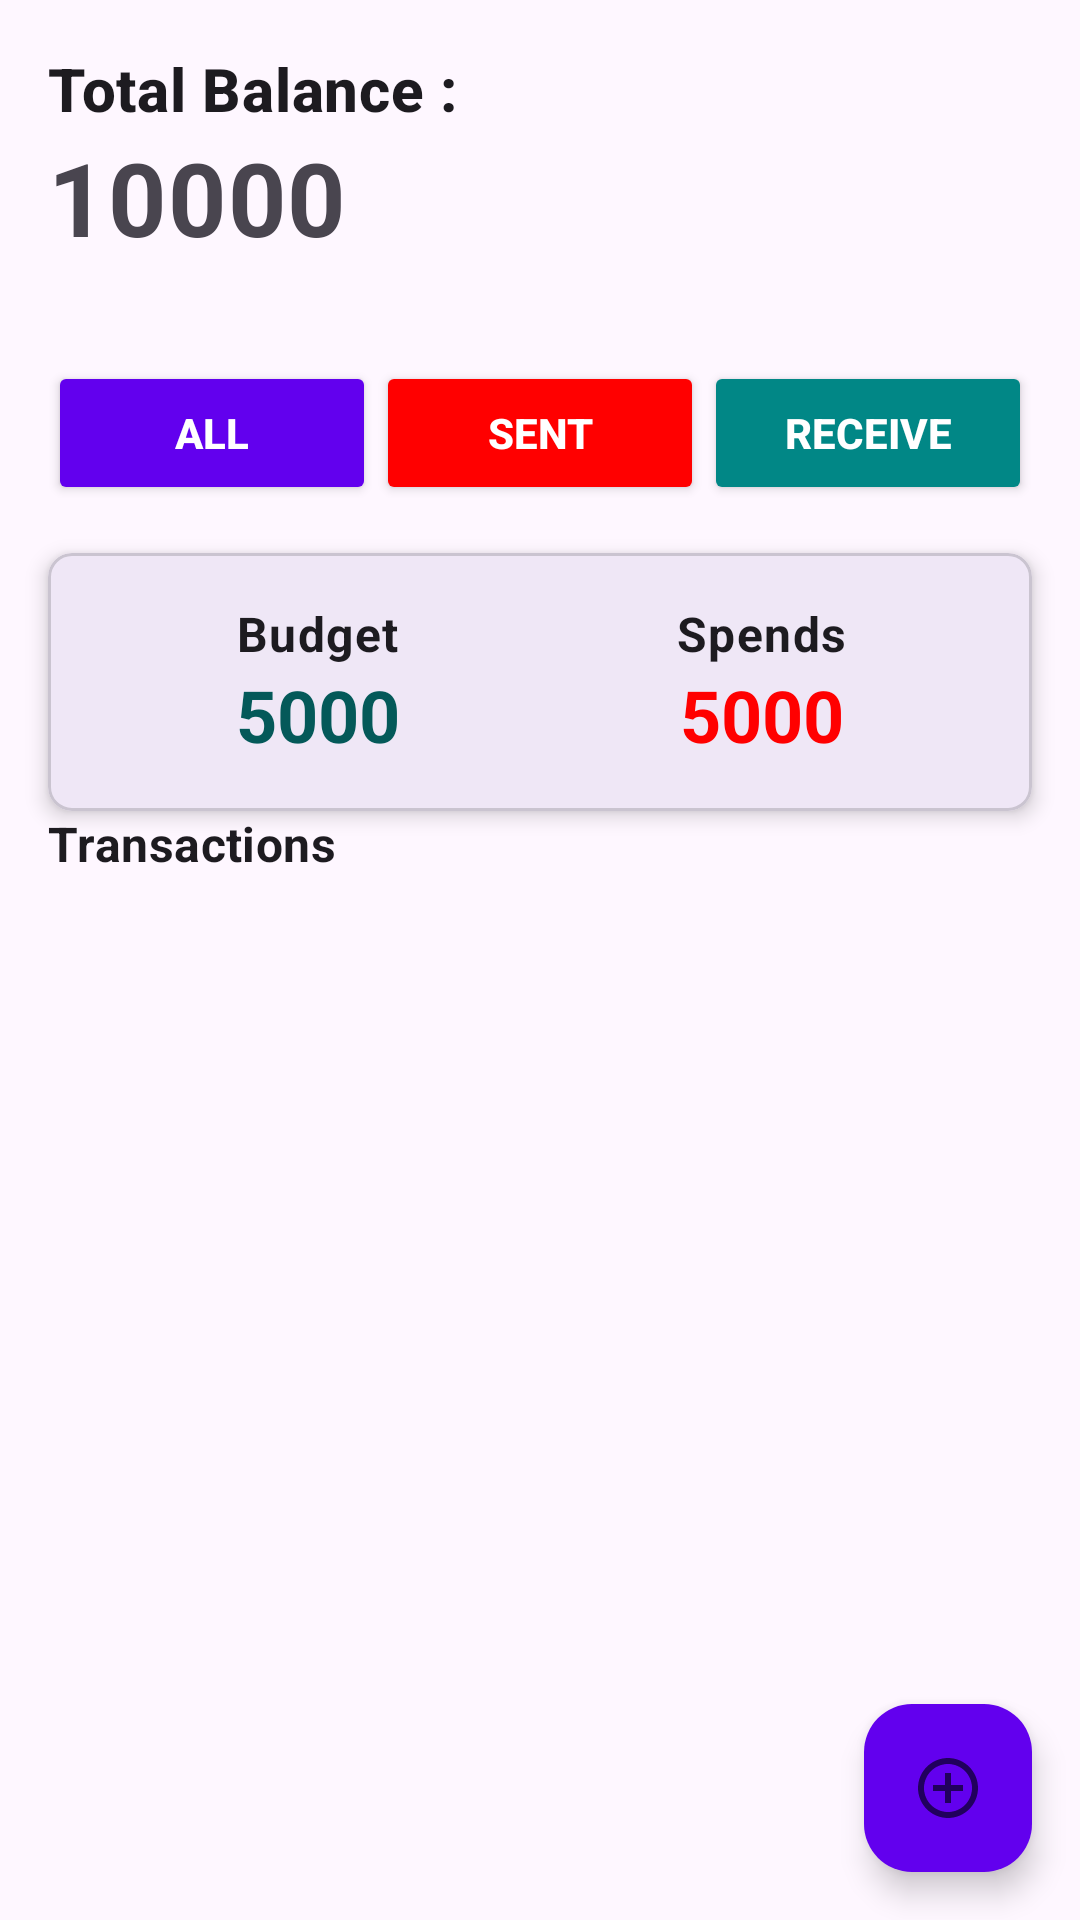

Point at icon controls on the screen. Image size 1080x1920, points as (x=x, y=y).
Add Transaction: (x=948, y=1788)
